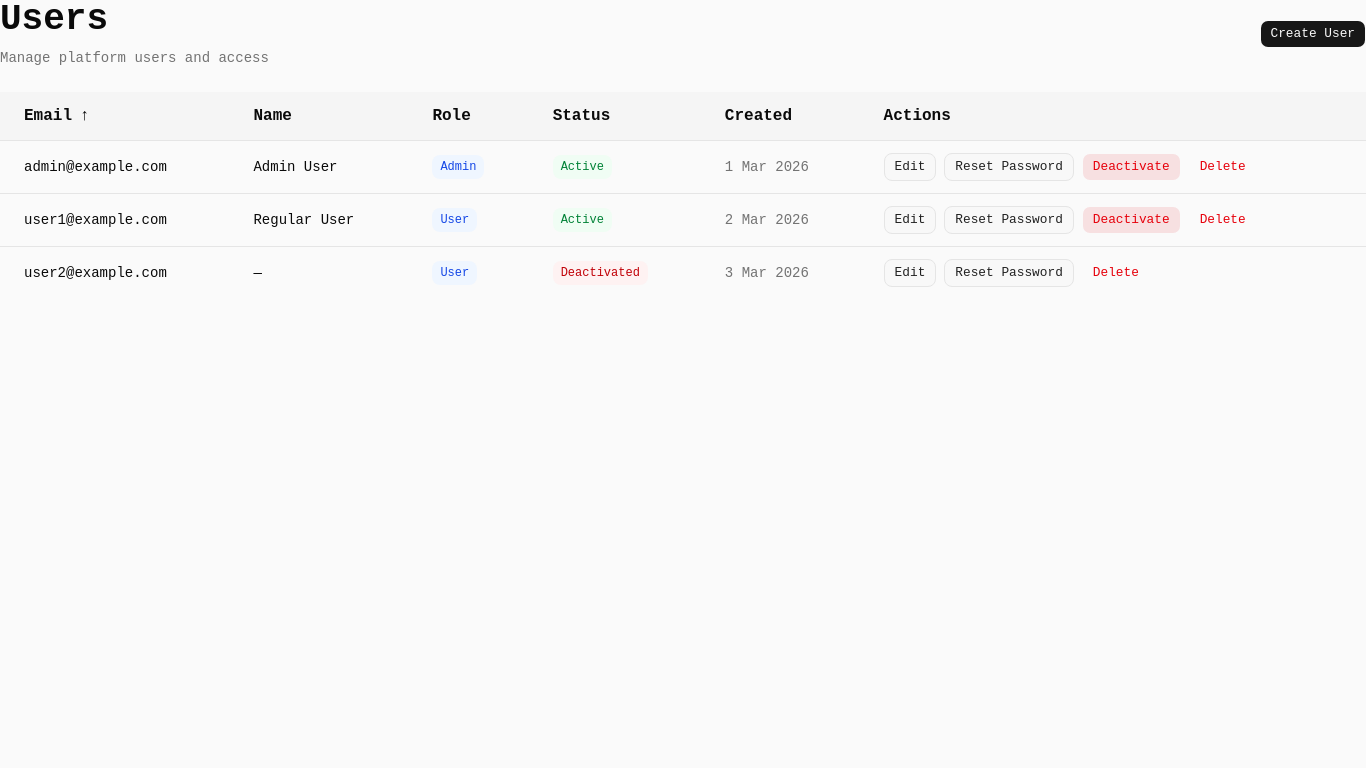
Test: SettingsUsers › table actions › opens edit dialog when Edit button is clicked
Check: the text "user1@example.com" is shown, box [0, 194, 230, 246]
Click the button "Edit" in the row of "user1@example.com".
click(910, 220)  # box [884, 206, 936, 234]
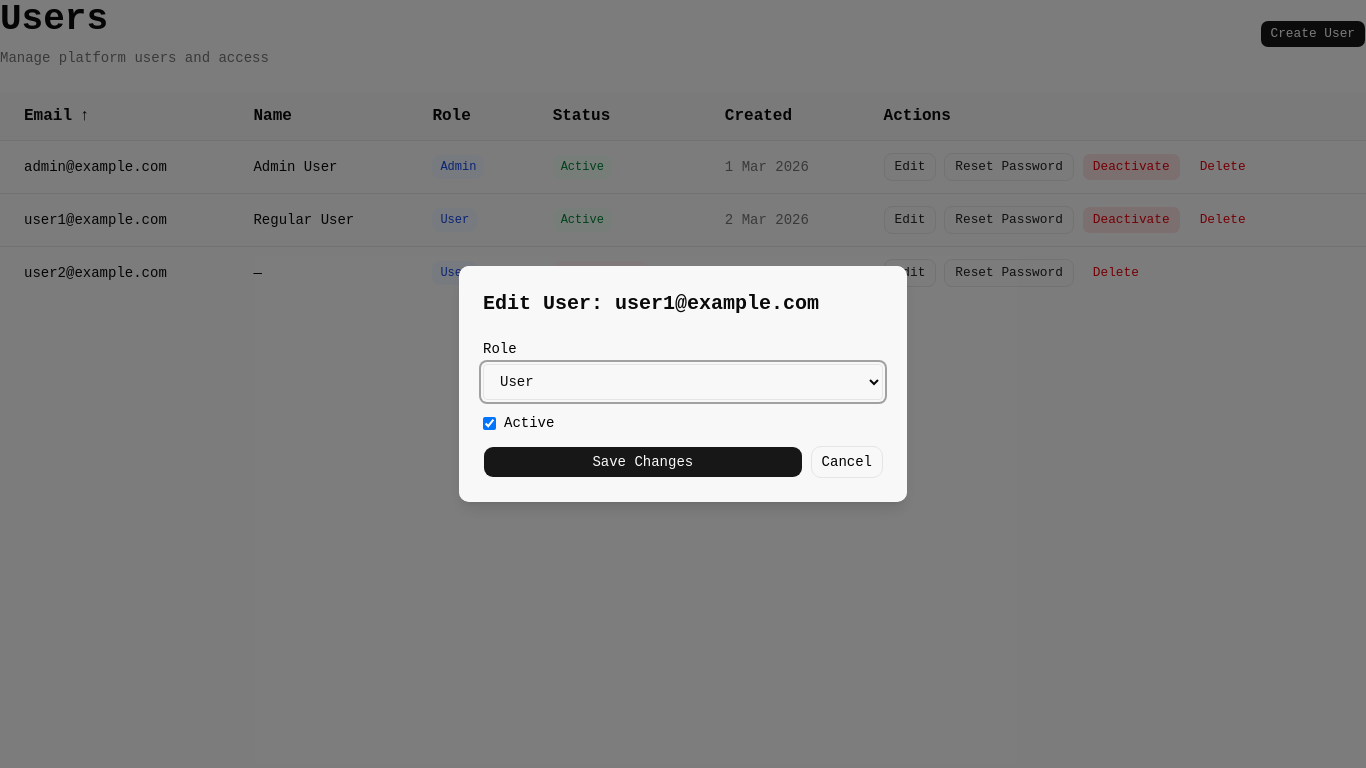
Check: the heading "Edit User: user1@example.com" is shown, box [483, 292, 819, 315]
